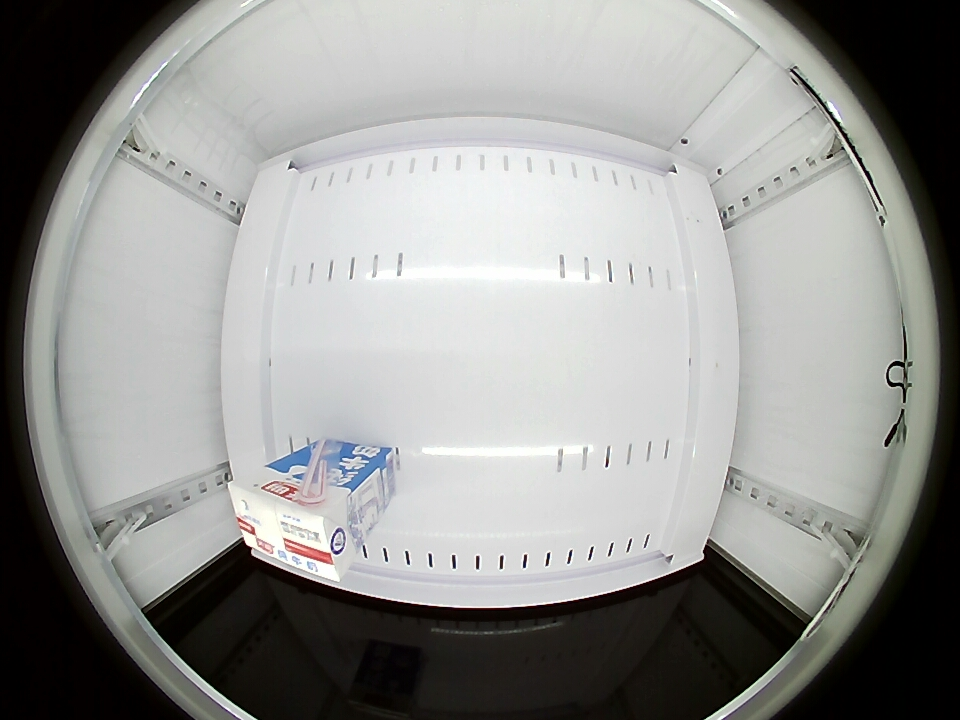niunai: (229, 469, 356, 583)
